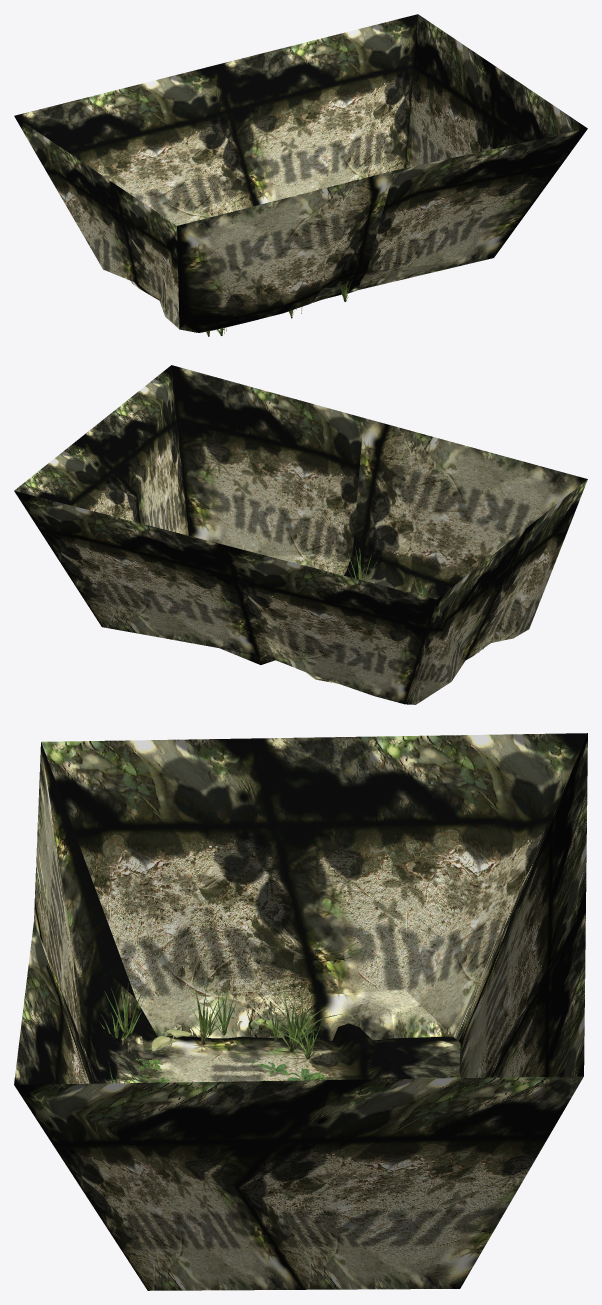
The model's file is TitleScreen.fbx.
The picture shows the model from 3 angles, top to bottom: view 1: azimuth 30°, elevation 25°; view 2: azimuth 150°, elevation 25°; view 3: azimuth 270°, elevation 25°; orthographic projection. The views are drawn at different scales.
Parts seen in each view (by area): view 1: Mesh_0002; view 2: Mesh_0002; view 3: Mesh_0002.
Boxes of the visible parts, bbox=[...] form: Mesh_0002: bbox=[14, 14, 587, 336]; Mesh_0002: bbox=[14, 365, 587, 704]; Mesh_0002: bbox=[14, 733, 587, 1290].
Size of the model in its own units: 11075 by 3746 by 7474.
Materials: 4 (4 with a texture image).
